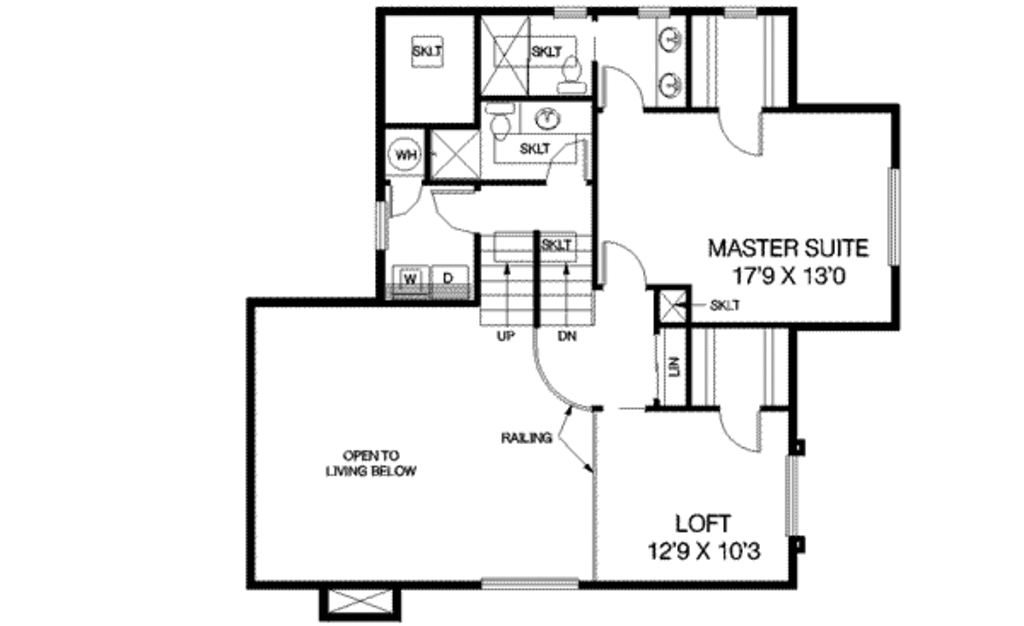door: (712, 103, 770, 165), (430, 184, 486, 239), (596, 242, 652, 294), (597, 64, 648, 114), (719, 402, 765, 456), (548, 136, 595, 185), (385, 178, 430, 218)
large_sink: (479, 99, 520, 148), (554, 51, 586, 99)
small_sink: (652, 18, 688, 109), (531, 102, 573, 137)
stairs: (473, 227, 537, 337), (536, 227, 596, 341)
window: (880, 162, 909, 263), (782, 451, 806, 541), (476, 573, 577, 591), (719, 2, 764, 23), (546, 5, 598, 23), (377, 198, 395, 250), (634, 5, 672, 19)
